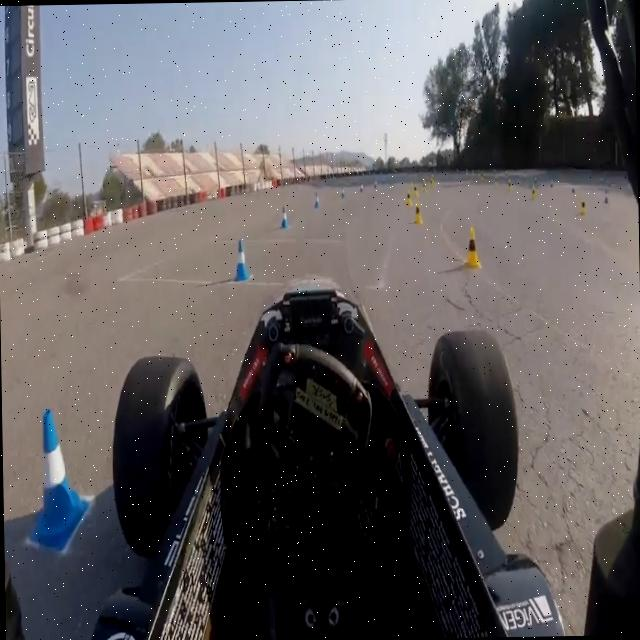blue_cone: (22, 410, 90, 556), (230, 237, 254, 283), (279, 204, 290, 231), (312, 188, 320, 211), (340, 185, 344, 199)
yellow_cone: (461, 221, 481, 271), (412, 204, 423, 228), (404, 188, 412, 208), (580, 196, 586, 217), (413, 180, 419, 200), (531, 183, 536, 200)
